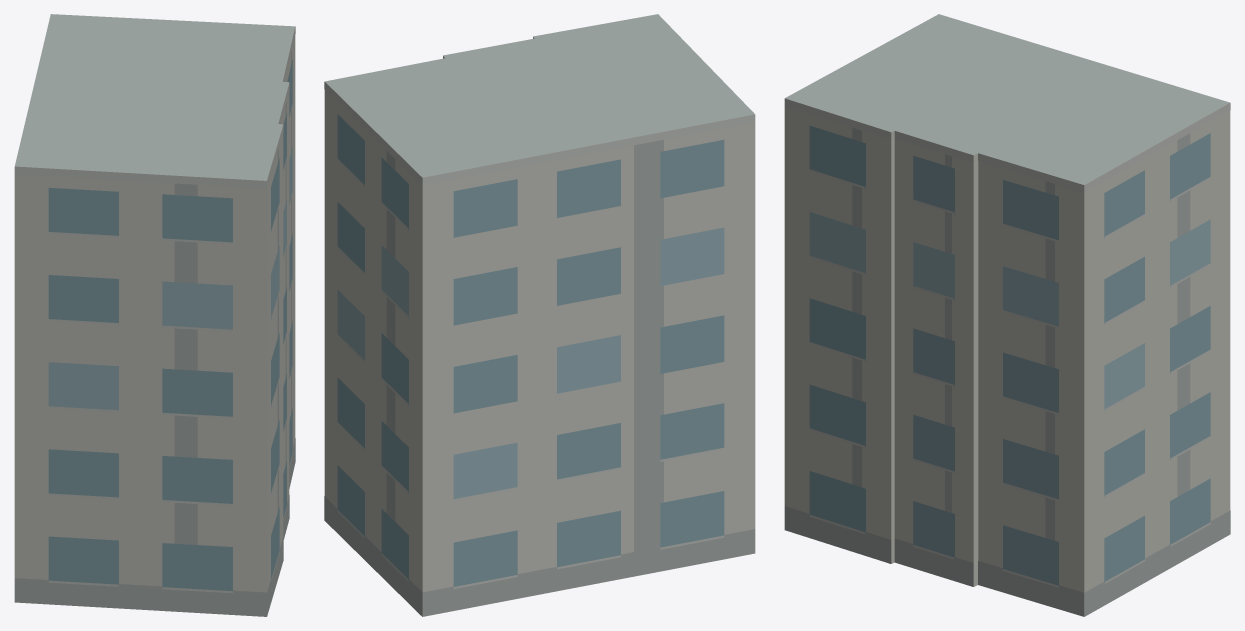
Rendered from survey-upis-32807527.glb.
3 renders of one model, left to right at view 1: azimuth 30°, elevation 25°; view 2: azimuth 150°, elevation 25°; view 3: azimuth 270°, elevation 25°, orthographic.
Visible parts, largest first — view 1: survey-upis-32807527.tmp; view 2: survey-upis-32807527.tmp; view 3: survey-upis-32807527.tmp.
Boxes of the visible parts, bbox=[...] form: survey-upis-32807527.tmp: bbox=[14, 14, 295, 616]; survey-upis-32807527.tmp: bbox=[324, 14, 755, 616]; survey-upis-32807527.tmp: bbox=[784, 14, 1230, 616].
Bounding box in the file's own units: 11.53 × 13.55 × 12.69.
